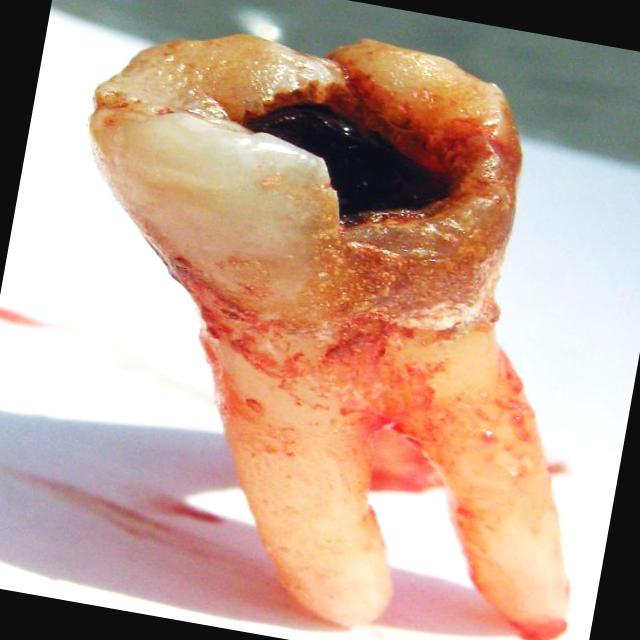caries: (70, 1, 534, 340)
